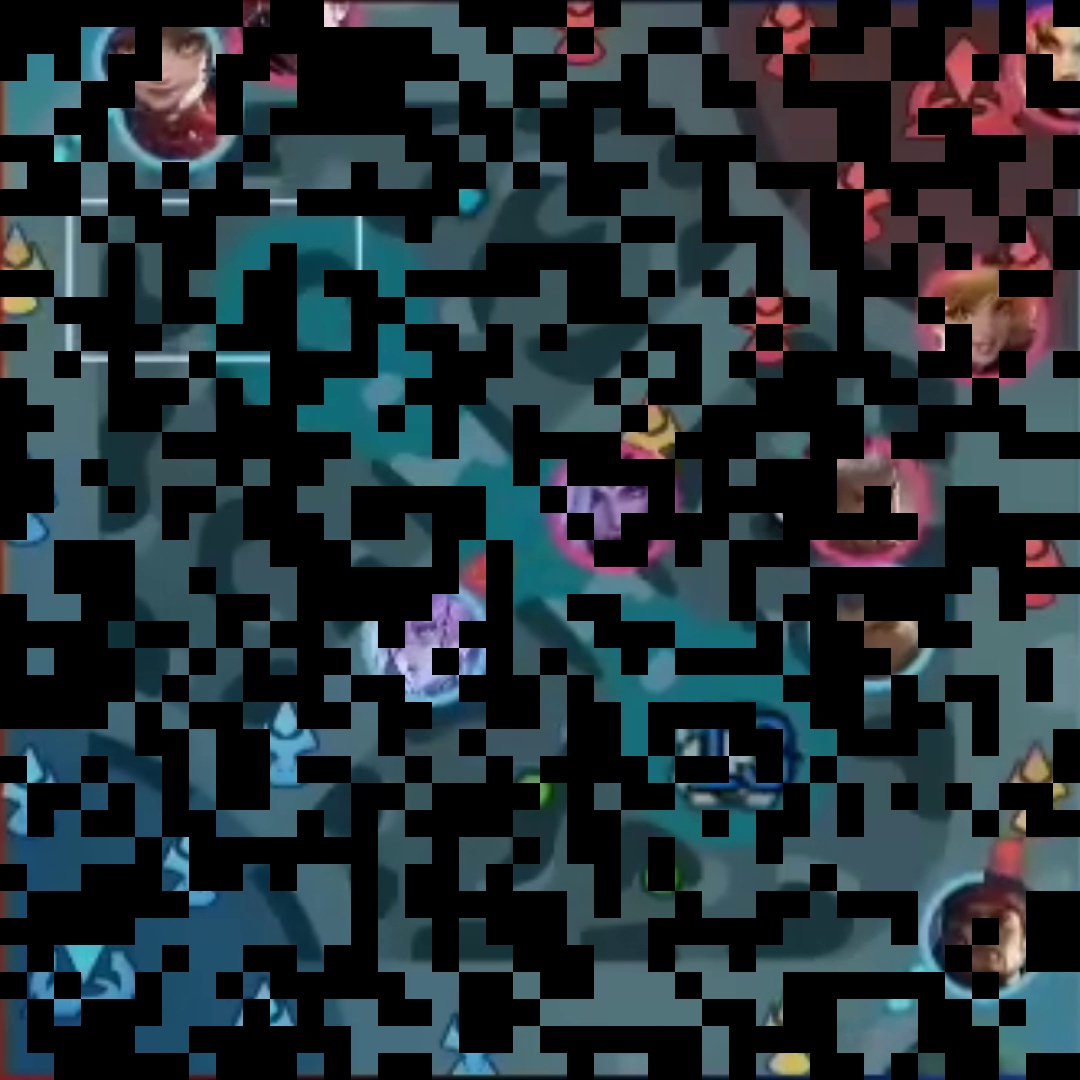Chou: (819, 456, 902, 546)
Claude: (255, 2, 340, 65)
Fanny: (934, 267, 1025, 365)
Fredrinn: (830, 577, 919, 677)
Lapu-Lapu: (946, 887, 1029, 982)
Masha: (1029, 18, 1080, 116)
Minotaur: (136, 107, 225, 156)
Novaria: (383, 593, 475, 693)
Valentina: (564, 464, 655, 558)
Wanwan: (113, 18, 204, 99)
